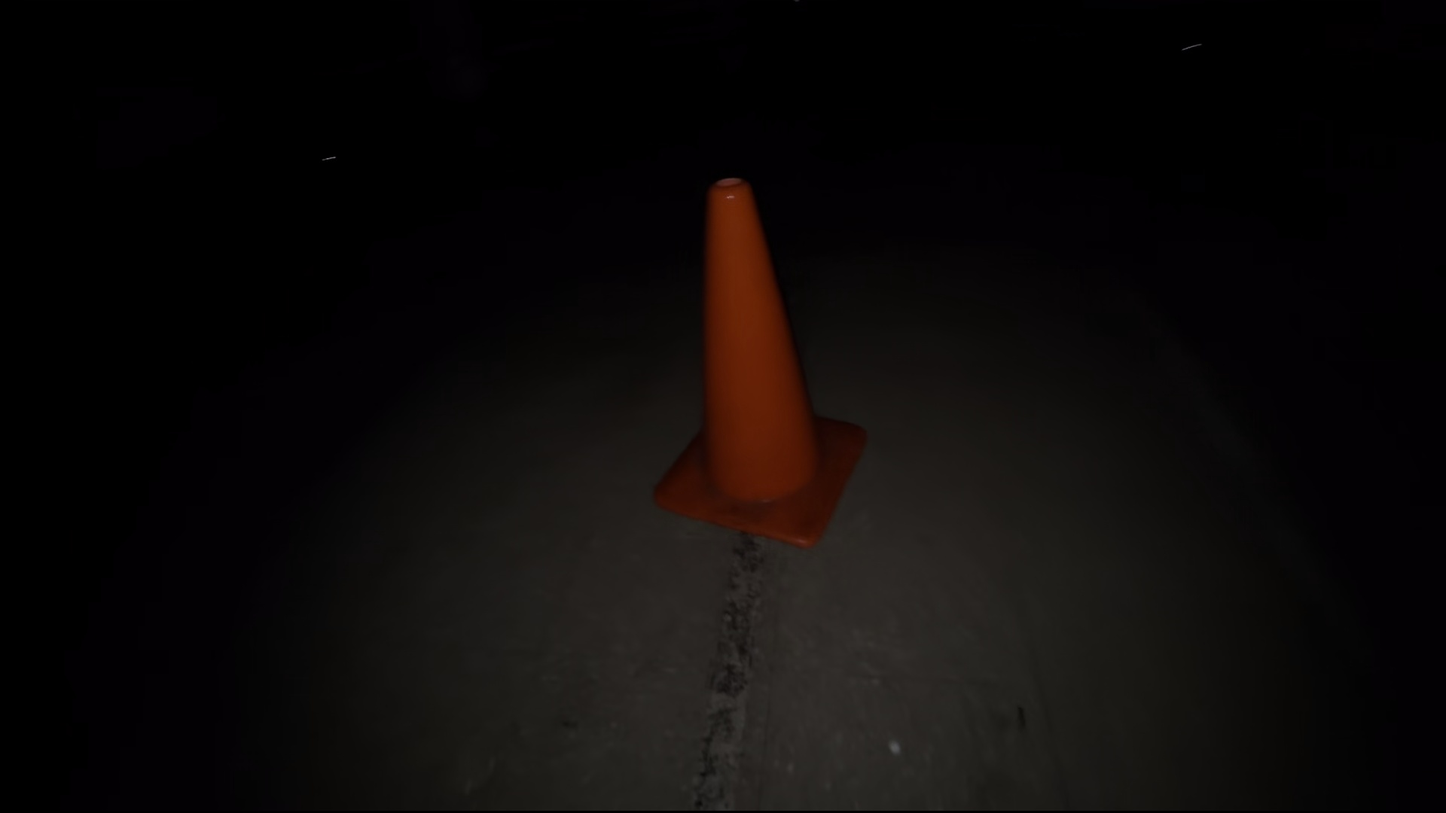traffic_cone: (652, 175, 868, 549)
